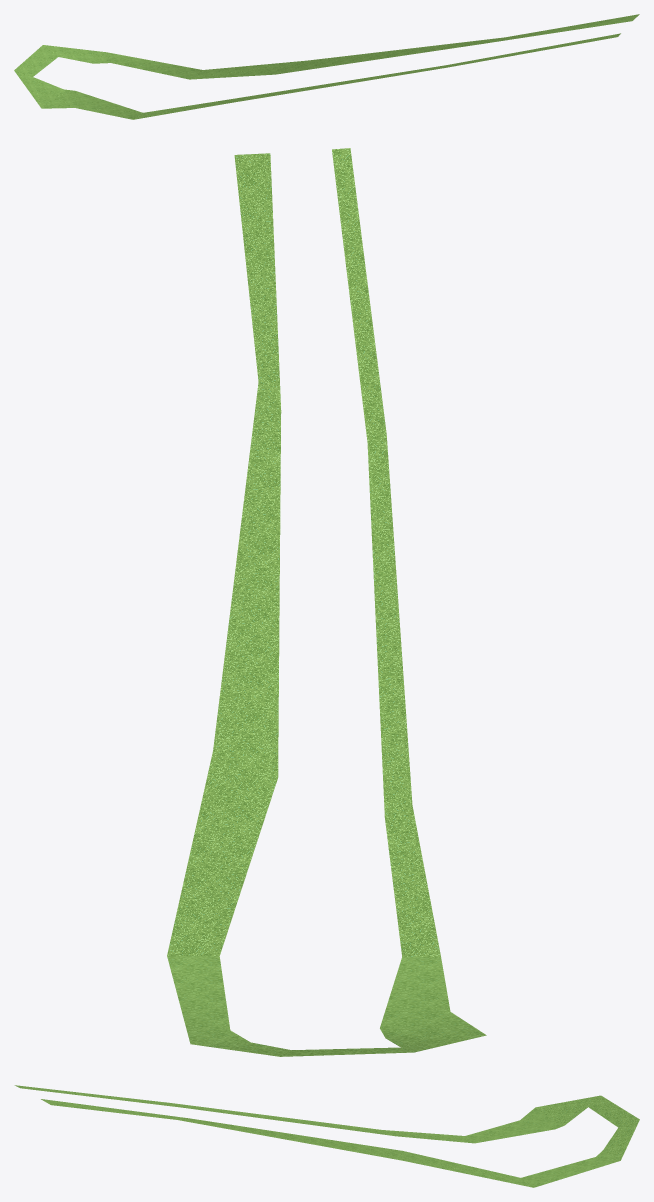
Rendered from kd_stage_136599_10_21.glb.
3 views of the same model, one above another, from view 1: azimuth 30°, elevation 25°; view 2: azimuth 150°, elevation 25°; view 3: azimuth 270°, elevation 25° (orthographic). The views are drawn at different scales.
Parts seen in each view (by area): view 1: kd_stage_136599_10_21; view 2: kd_stage_136599_10_21; view 3: kd_stage_136599_10_21.
Part boxes in pixels (<box>): kd_stage_136599_10_21: <box>14,14,639,119</box>; kd_stage_136599_10_21: <box>167,148,486,1056</box>; kd_stage_136599_10_21: <box>14,1085,639,1187</box>.
Size of the model in its own units: 55.07 by 26 by 80.31.
Materials: 1 (1 with a texture image).
